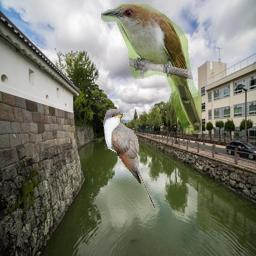Cuckoo: (101, 4, 202, 134), (103, 108, 155, 209)
